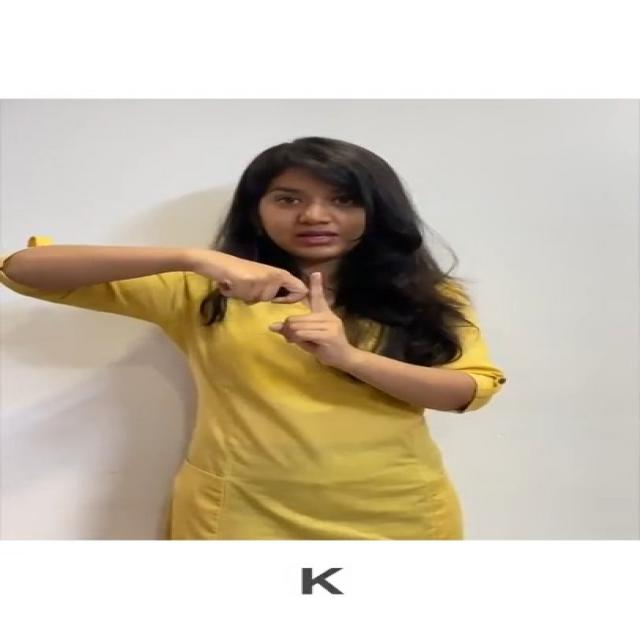K: (181, 240, 371, 388)
